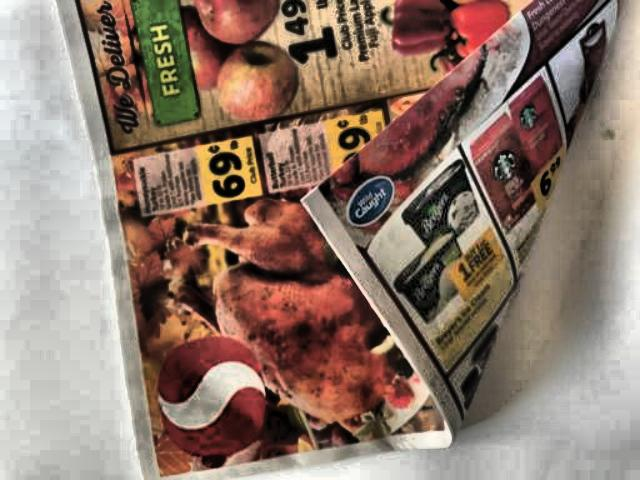Paper: (42, 0, 626, 480)
